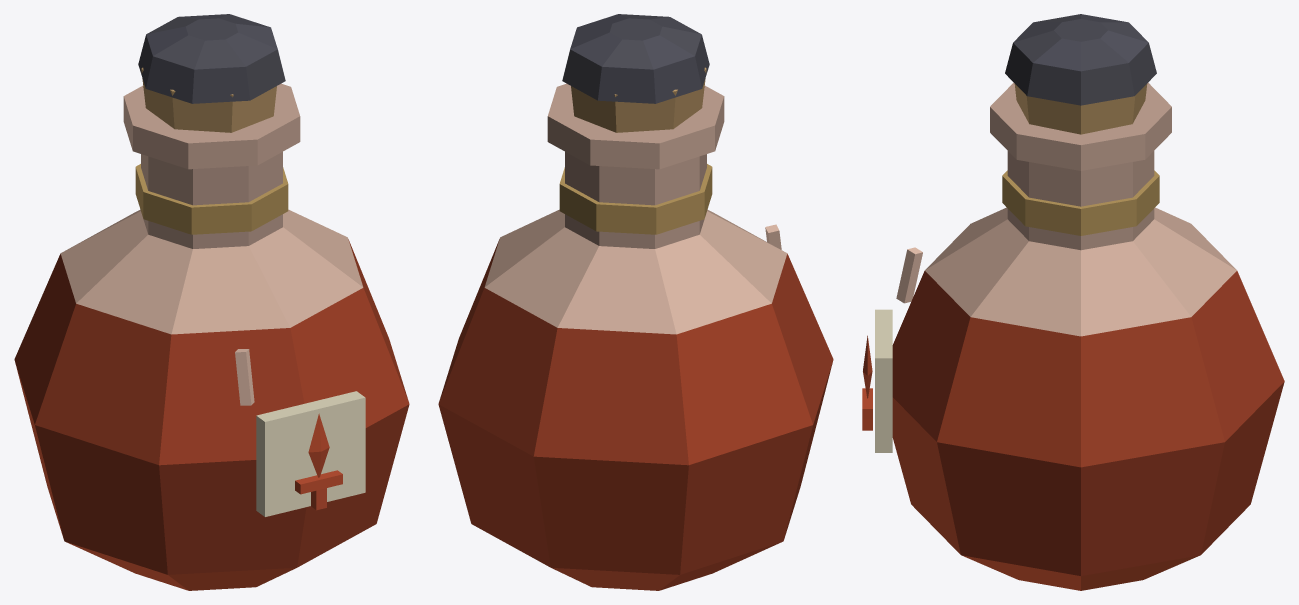
File: item_potion_might.glb
3 renders of one model, left to right at view 1: azimuth 30°, elevation 25°; view 2: azimuth 150°, elevation 25°; view 3: azimuth 270°, elevation 25°, orthographic.
Parts seen in each view (by area): view 1: item_potion_might; view 2: item_potion_might; view 3: item_potion_might.
Part boxes in pixels (x1,y1,x2,y2): item_potion_might: [14, 14, 409, 590]; item_potion_might: [438, 14, 833, 590]; item_potion_might: [862, 14, 1284, 590].
Bounding box in the file's own units: 0.315 × 0.4463 × 0.3266.
